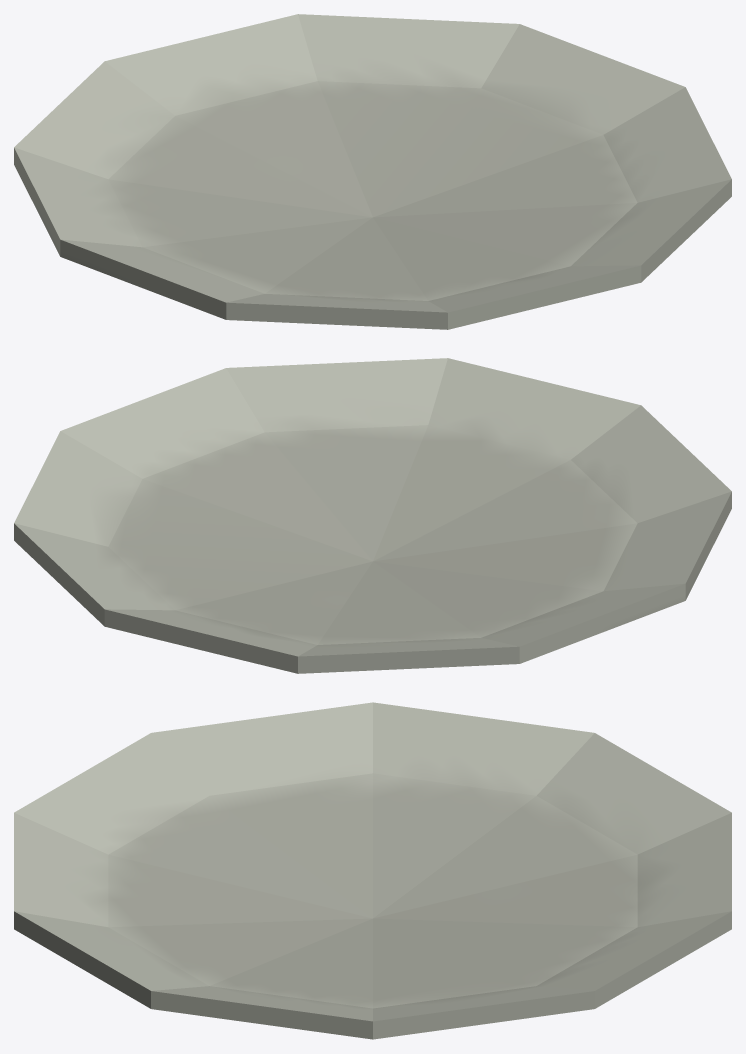
File: dish.fbx
3 renders of one model, top to bottom at view 1: azimuth 30°, elevation 25°; view 2: azimuth 150°, elevation 25°; view 3: azimuth 270°, elevation 25°, orthographic. The views are drawn at different scales.
Visible parts, largest first — view 1: pCylinder50; view 2: pCylinder50; view 3: pCylinder50.
Part boxes in pixels (left/top/right/bottom): pCylinder50: left=14, top=14, right=731, bottom=329; pCylinder50: left=14, top=358, right=731, bottom=673; pCylinder50: left=14, top=702, right=731, bottom=1039.
Bounding box in the file's own units: 178 × 15.04 × 169.
